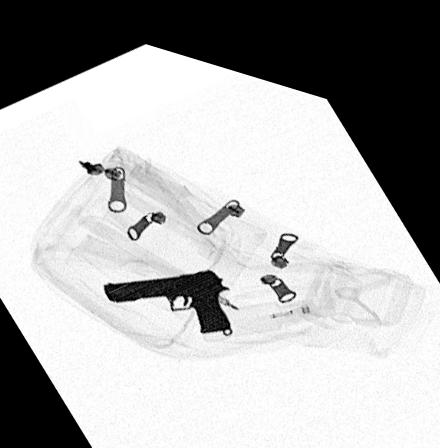Gun: (102, 256, 235, 322)
